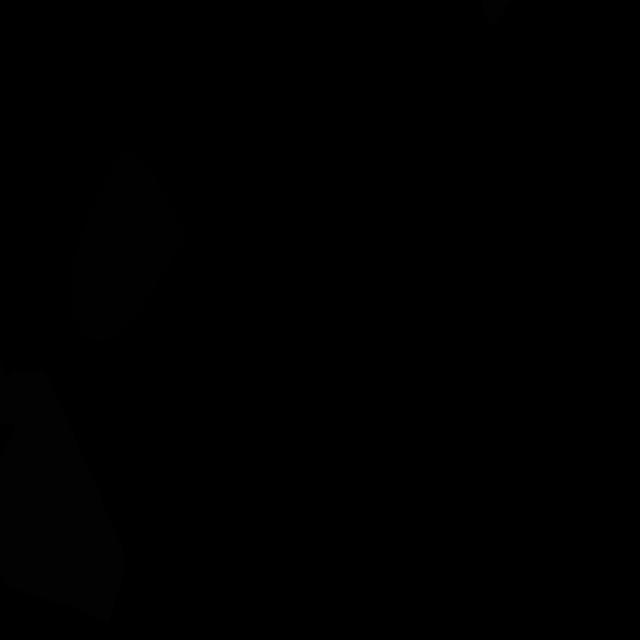cardboard: (0, 362, 126, 623), (481, 0, 514, 28)
rigid_plastic: (69, 147, 187, 343)
